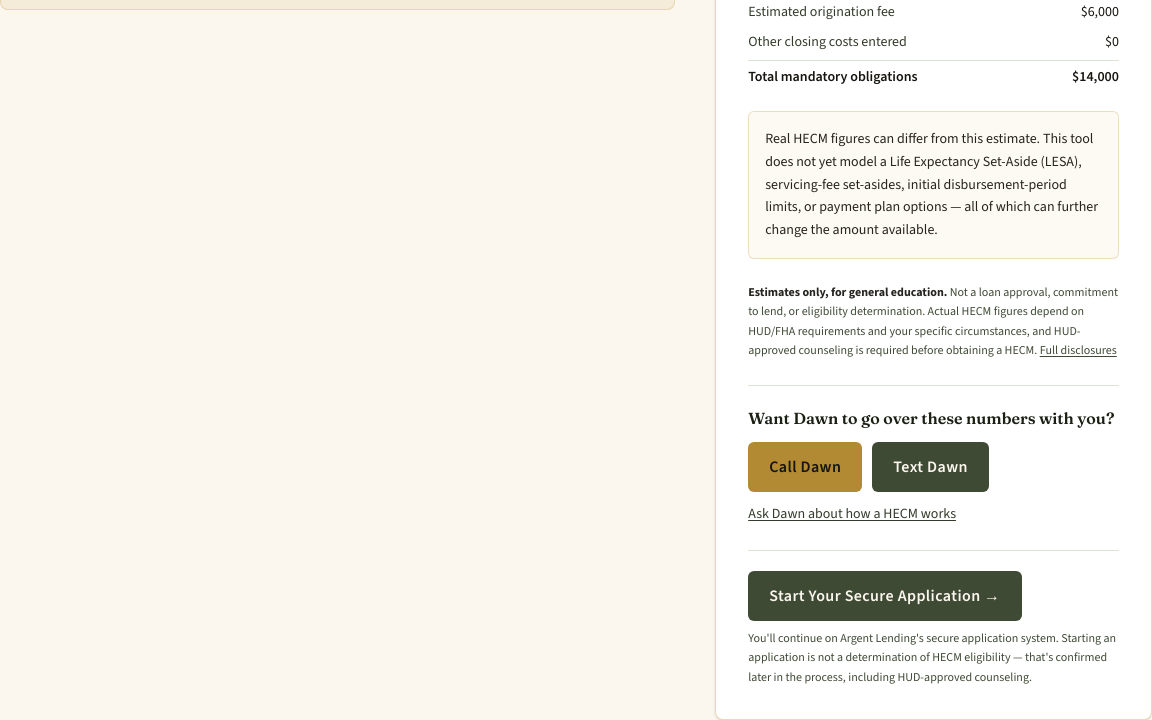
HomeEquityExplorer — Ask Dawn handoff › sends only a fixed, generic question with no calculator financial values
(page scrolled)
Click the button "Ask Dawn about how a HECM works" at coordinates (852, 514), box top-left (748, 504), bottom-right (956, 524)
(page scrolled)
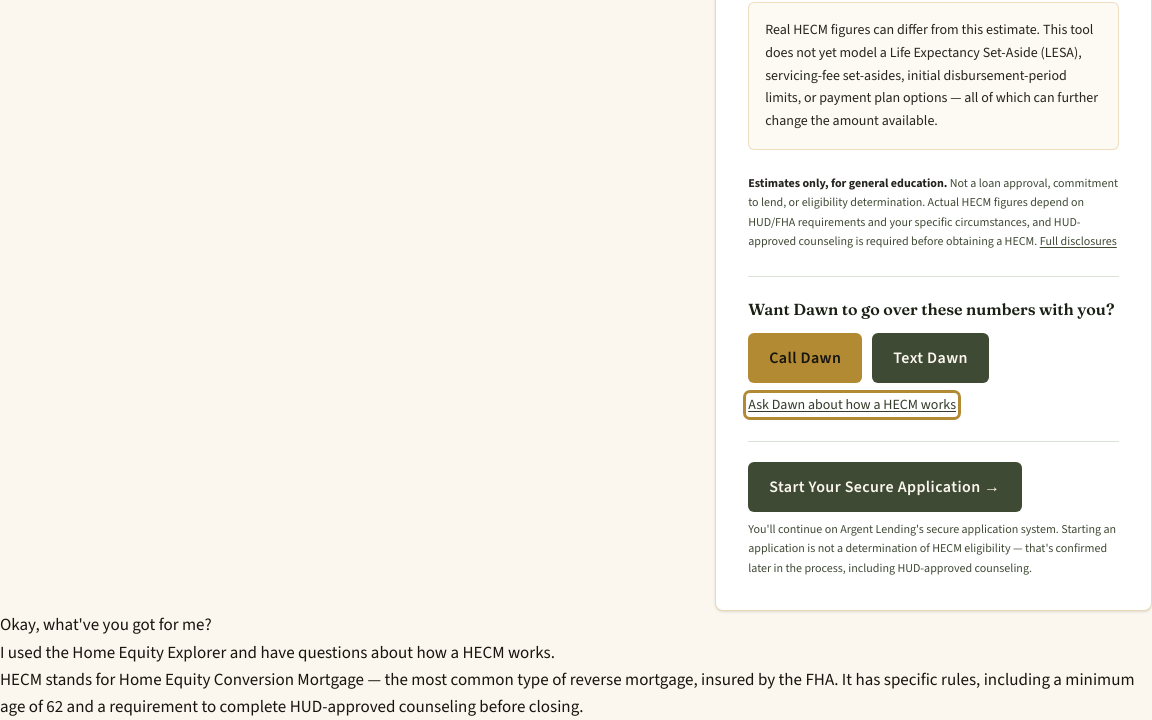
Expected: the text "I used the Home Equity Explorer and have questions about how a HECM works." is shown, top-left (0, 641), bottom-right (555, 664)
